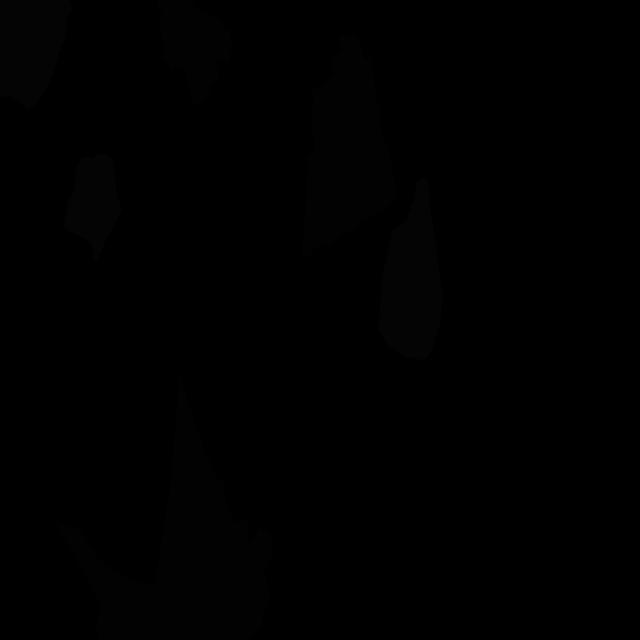cardboard: (56, 376, 272, 640), (301, 32, 397, 260), (157, 0, 234, 104)
soft_plastic: (378, 177, 442, 360), (64, 153, 122, 262)
